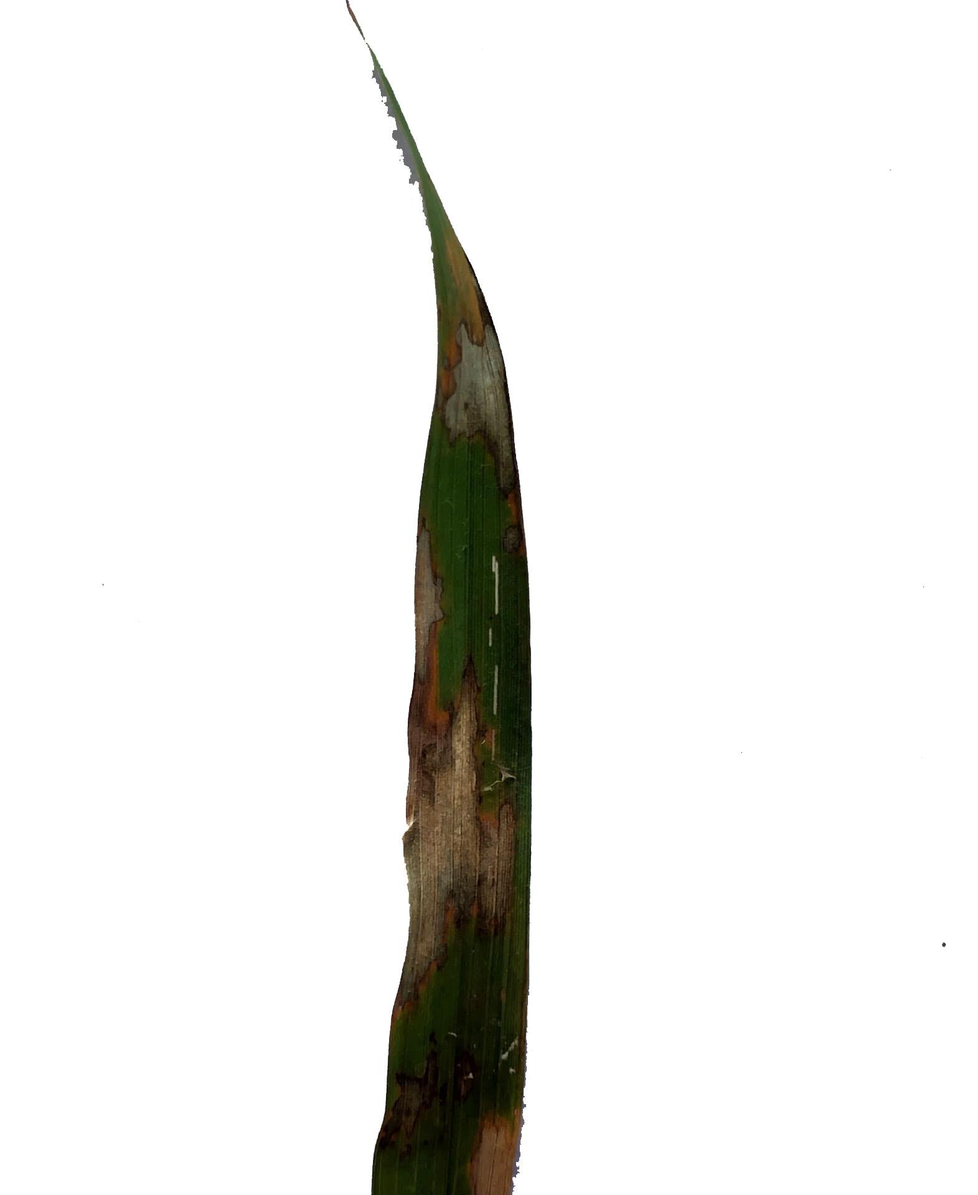Blight: (414, 532, 523, 955), (423, 230, 520, 461), (448, 1064, 532, 1195)
